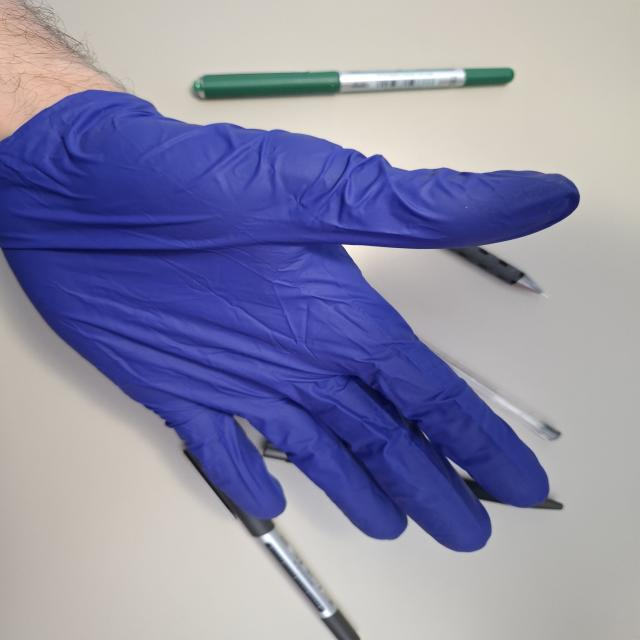glove_on: (2, 78, 587, 556)
